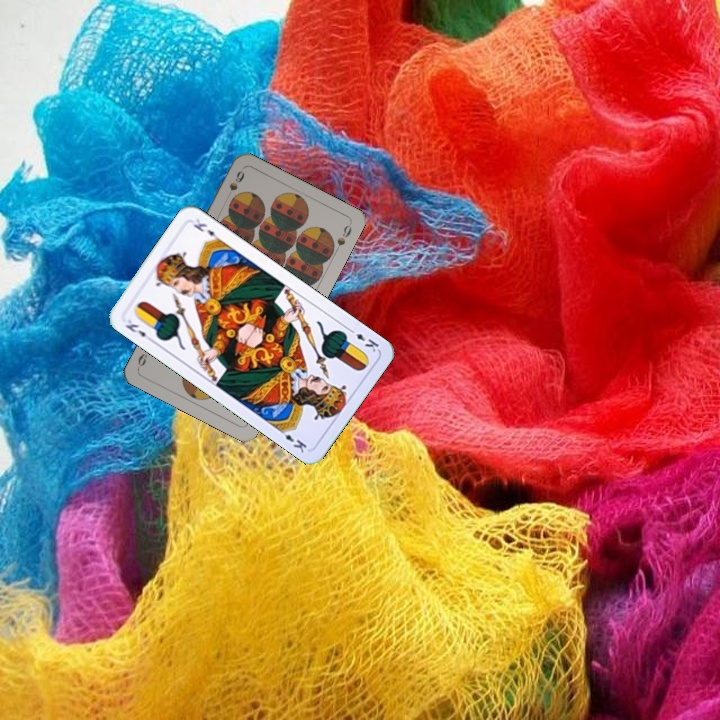EK: (344, 324, 382, 355), (121, 315, 156, 344)
S9: (222, 167, 247, 203)
